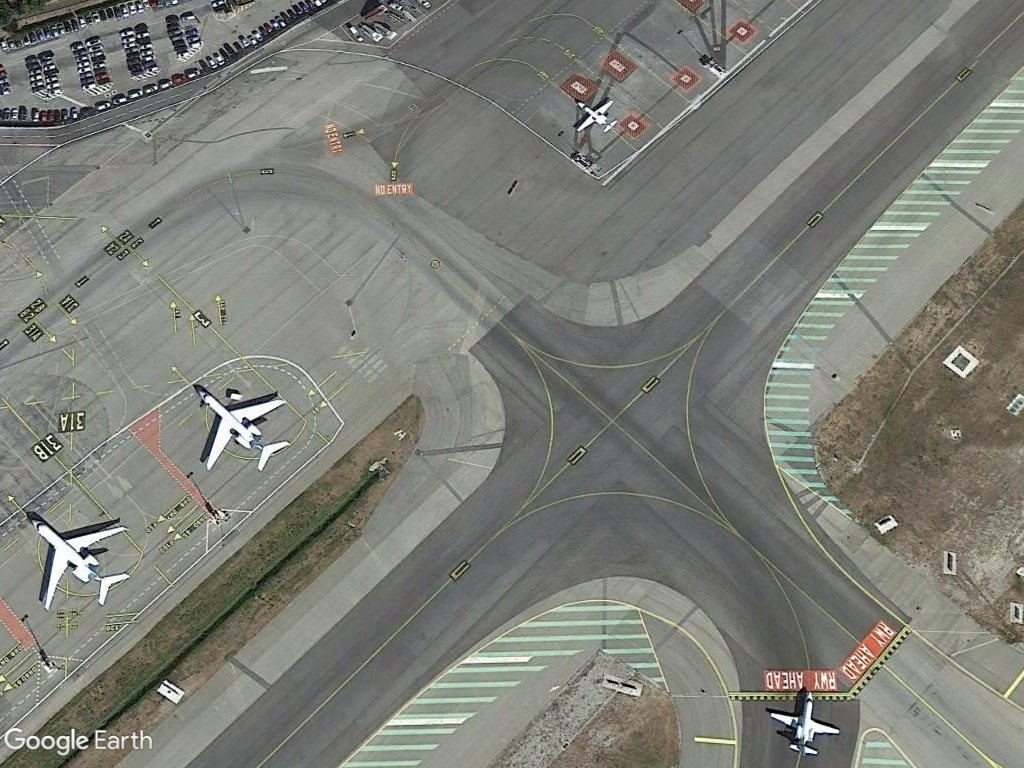chartered: (21, 511, 133, 613), (188, 379, 293, 472), (772, 680, 841, 761)
